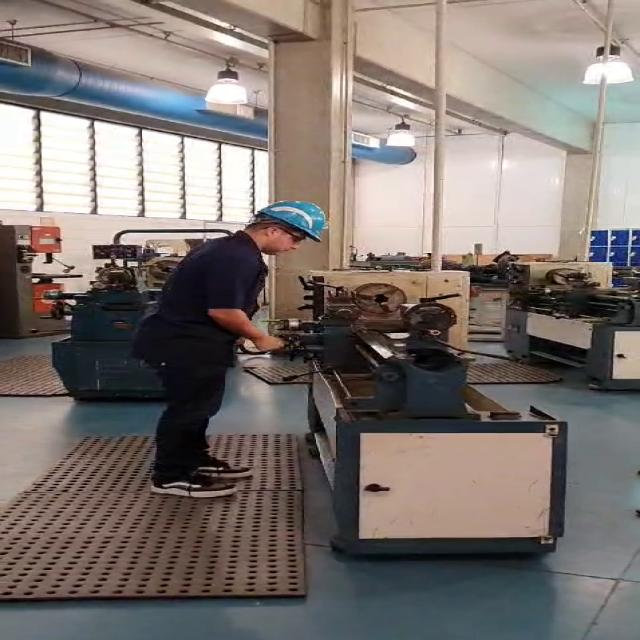oculos-epi: (276, 228, 306, 245)
